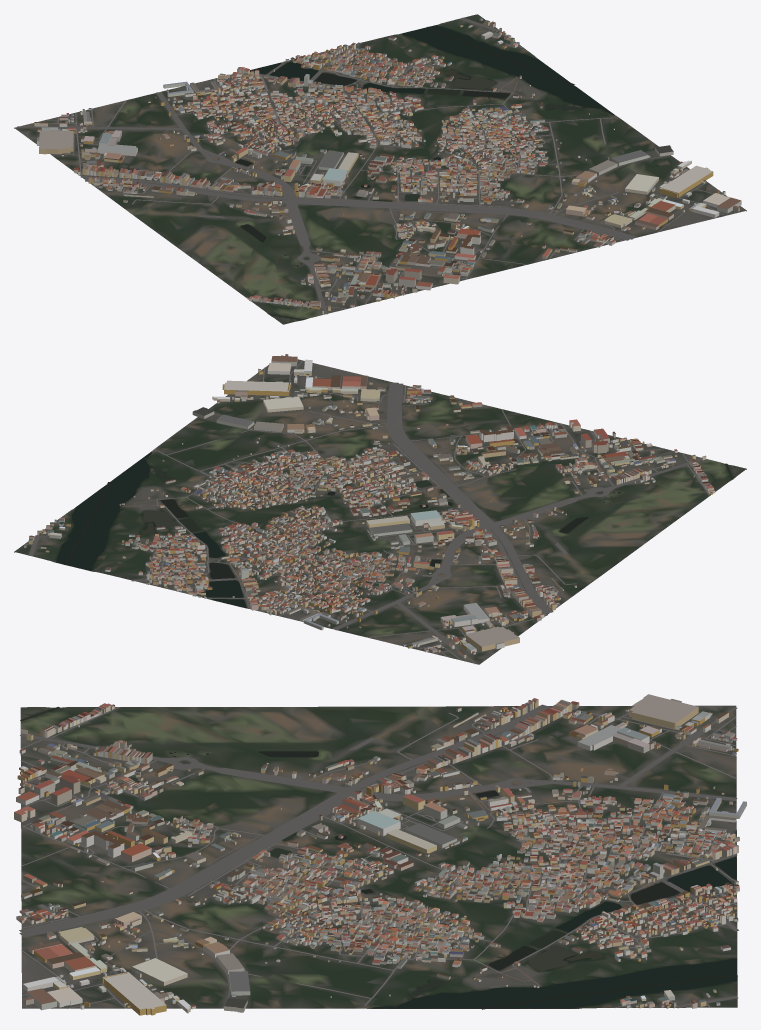
3 views of the same model, one above another, from view 1: azimuth 30°, elevation 25°; view 2: azimuth 150°, elevation 25°; view 3: azimuth 270°, elevation 25° (orthographic). The views are drawn at different scales.
Visible parts, largest first — view 1: ground, buildings, roads, water; view 2: ground, buildings, roads, water; view 3: ground, buildings, roads, water.
Boxes of the visible parts, <box> form: ground: <box>14,14,746,324</box>; buildings: <box>34,18,741,314</box>; roads: <box>17,17,726,314</box>; water: <box>235,25,614,319</box>; ground: <box>14,355,746,664</box>; buildings: <box>24,354,715,658</box>; roads: <box>24,360,710,663</box>; water: <box>56,451,733,607</box>; ground: <box>20,705,737,1008</box>; buildings: <box>14,694,746,1015</box>; roads: <box>19,704,738,1008</box>; water: <box>20,706,737,1009</box>.
Bounding box in the file's own units: 1458 × 32.69 × 1436.
